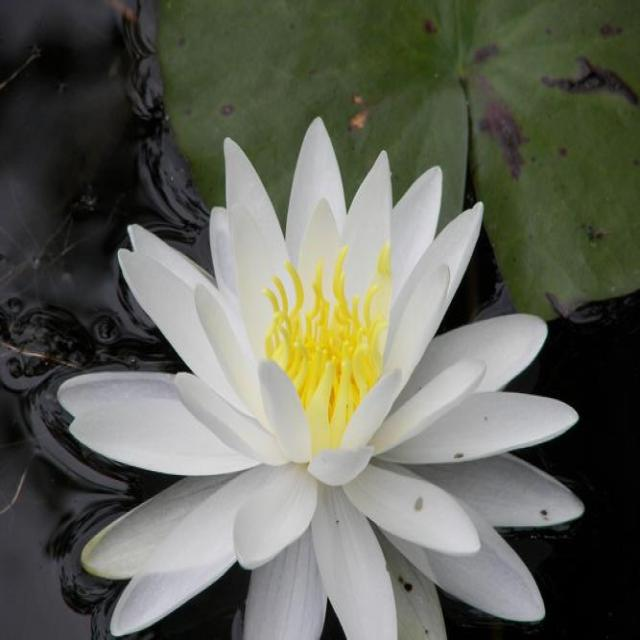rose: (58, 91, 640, 640)
